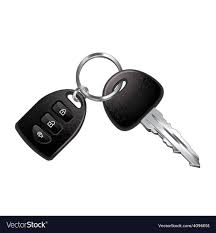kicharina: (97, 63, 205, 176)
